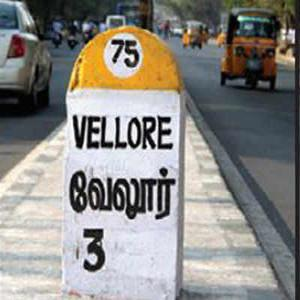kmstone: (63, 20, 182, 300)
